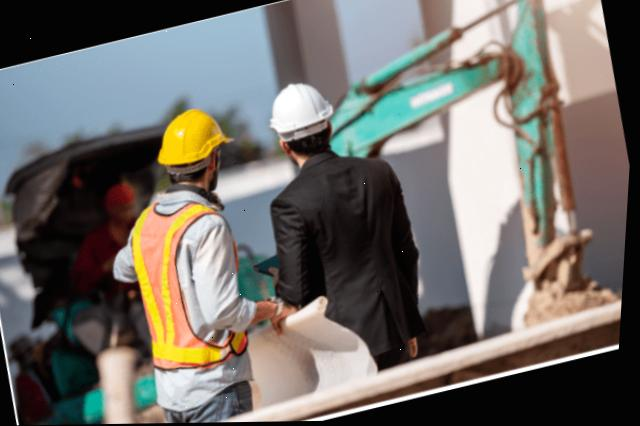helmet: (143, 101, 239, 176), (262, 70, 344, 147)
vest: (112, 179, 261, 380)
